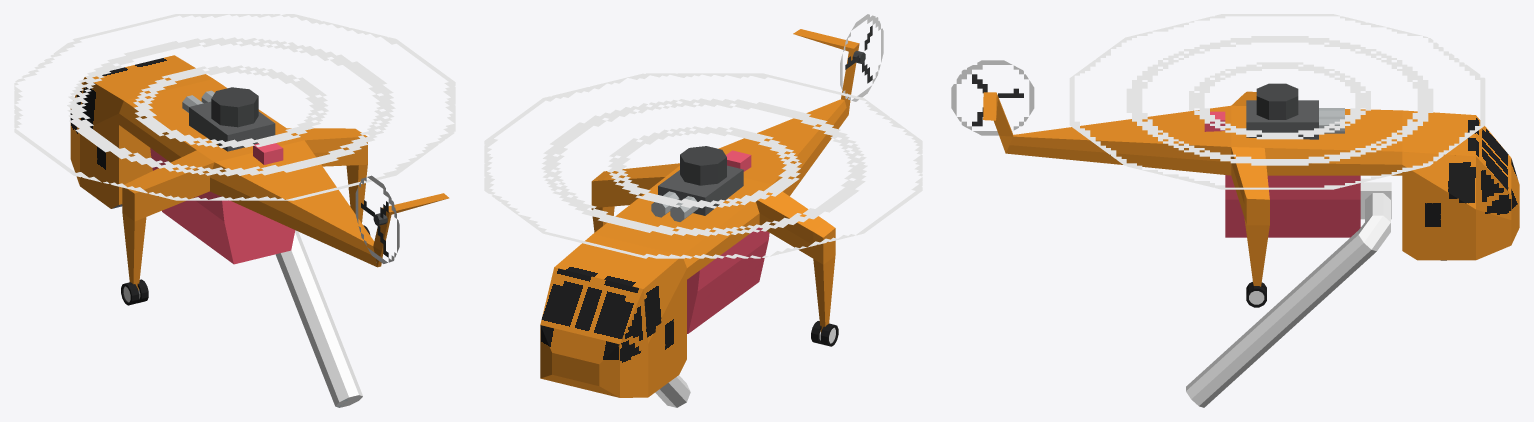
The model's file is skycrane.gltf.
3 views of the same model, side by side, from view 1: azimuth 30°, elevation 25°; view 2: azimuth 150°, elevation 25°; view 3: azimuth 270°, elevation 25° (orthographic). The views are drawn at different scales.
Visible parts, largest first — view 1: cuboid, cylinder (×4), cube (×3); view 2: cuboid, cylinder (×4), cube (×3); view 3: cuboid, cylinder (×5), cube (×3).
Part boxes in pixels (<box>): cuboid: <box>70,55,449,290</box>; cylinder (×4): <box>14,14,455,407</box>; cube (×3): <box>150,101,295,264</box>; cuboid: <box>540,29,859,397</box>; cylinder (×4): <box>484,14,922,407</box>; cube (×3): <box>658,150,769,333</box>; cuboid: <box>983,91,1519,286</box>; cylinder (×5): <box>951,14,1485,407</box>; cube (×3): <box>1225,100,1391,237</box>.
Size of the model in its own units: 5 by 4.1 by 6.83.
7 materials, 7 textured.
